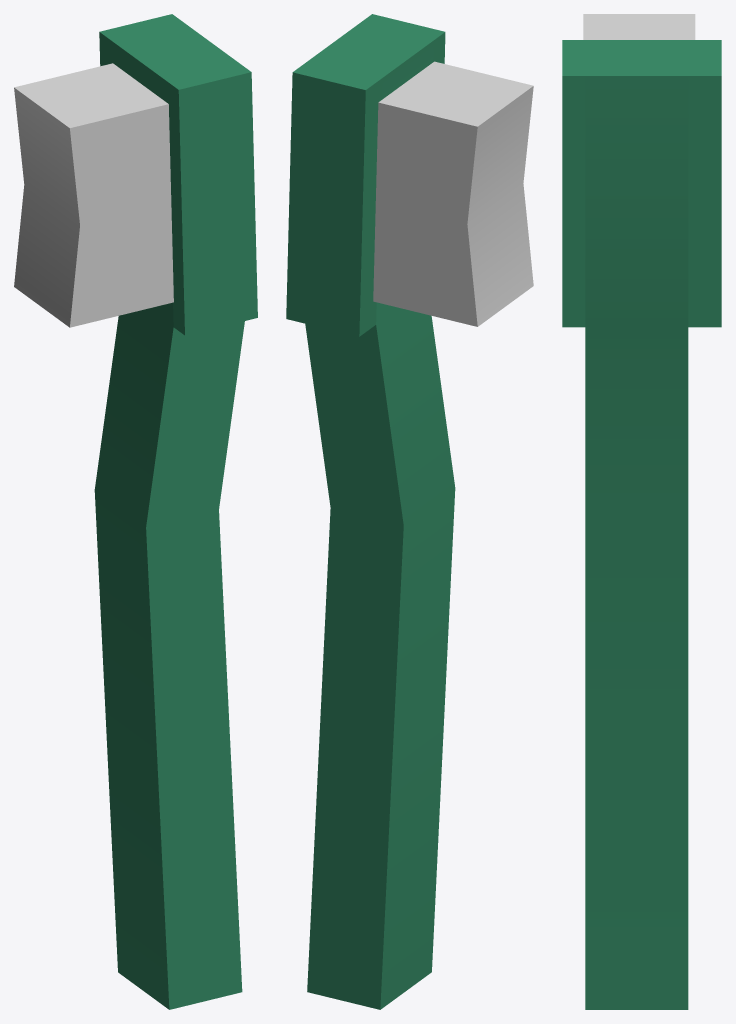
File: brush.fbx
3 renders of one model, left to right at view 1: azimuth 30°, elevation 25°; view 2: azimuth 150°, elevation 25°; view 3: azimuth 270°, elevation 25°, orthographic.
Visible parts, largest first — view 1: pCube116; view 2: pCube116; view 3: pCube116.
Part boxes in pixels (bbox=[...]): pCube116: bbox=[14, 14, 257, 1009]; pCube116: bbox=[286, 14, 533, 1009]; pCube116: bbox=[562, 14, 721, 1009].
Size of the model in its own units: 0.1786 by 0.8921 by 0.1382.
